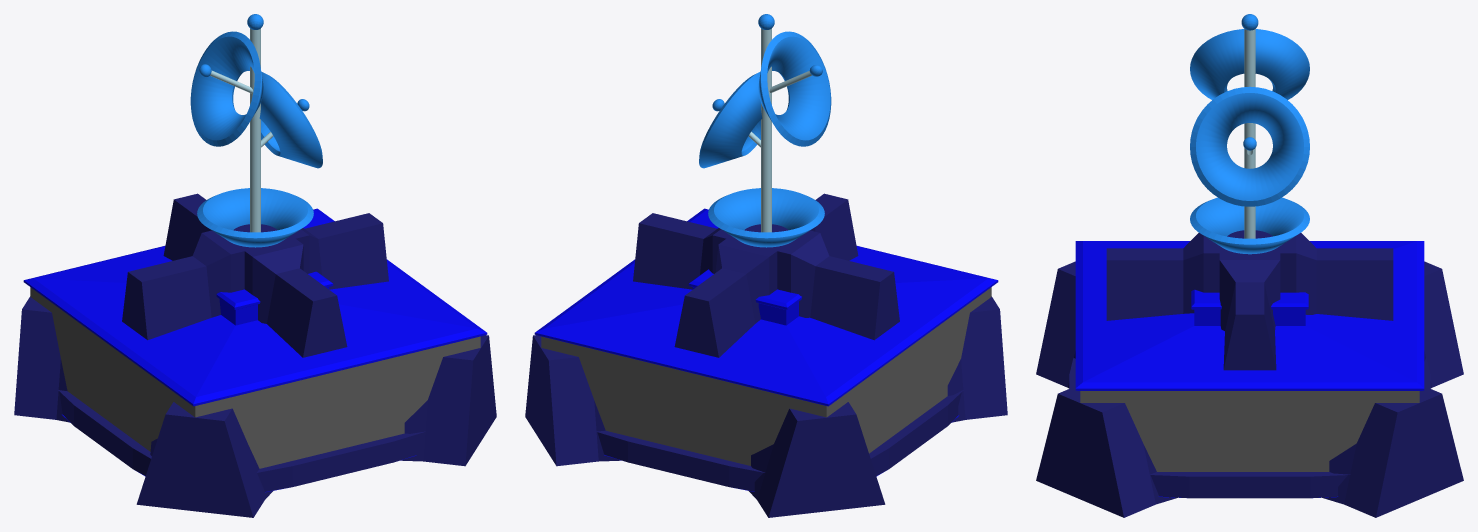
The model's file is Signal_Tower.obj.
The picture shows the model from 3 angles, left to right: view 1: azimuth 30°, elevation 25°; view 2: azimuth 150°, elevation 25°; view 3: azimuth 270°, elevation 25°; orthographic projection. The views are drawn at different scales.
Visible parts, largest first — view 1: Cube_Cube.001, Cube.003_Cube.007, Cube.001_Cube.002, Cube.004_Cube.005, Cube.005_Cube.004, Torus.001_Torus.005, Torus, Torus.002_Torus.006, Cylinder; view 2: Cube_Cube.001, Cube.003_Cube.007, Cube.004_Cube.005, Cube.001_Cube.002, Cube.005_Cube.004, Torus.001_Torus.005, Torus, Torus.002_Torus.006, Cylinder; view 3: Cube_Cube.001, Cube.005_Cube.004, Cube.004_Cube.005, Cube.001_Cube.002, Torus.002_Torus.006, Cube.003_Cube.007, Torus.001_Torus.005, Torus, Cylinder.
Part boxes in pixels (<box>): Cube_Cube.001: <box>23,208,487,492</box>; Cube.003_Cube.007: <box>122,213,388,340</box>; Cube.001_Cube.002: <box>14,296,496,466</box>; Cube.004_Cube.005: <box>136,402,272,517</box>; Cube.005_Cube.004: <box>163,193,347,357</box>; Torus.001_Torus.005: <box>190,31,263,146</box>; Torus: <box>197,188,313,247</box>; Torus.002_Torus.006: <box>259,71,322,168</box>; Cylinder: <box>250,28,260,232</box>; Cube_Cube.001: <box>534,208,998,491</box>; Cube.003_Cube.007: <box>633,213,899,340</box>; Cube.004_Cube.005: <box>525,296,1007,466</box>; Cube.001_Cube.002: <box>749,402,885,517</box>; Cube.005_Cube.004: <box>674,193,858,357</box>; Torus.001_Torus.005: <box>758,31,831,146</box>; Torus: <box>708,188,824,247</box>; Torus.002_Torus.006: <box>699,71,762,168</box>; Cylinder: <box>761,28,771,232</box>; Cube_Cube.001: <box>1069,241,1430,498</box>; Cube.005_Cube.004: <box>1106,230,1393,320</box>; Cube.004_Cube.005: <box>1036,261,1463,517</box>; Cube.001_Cube.002: <box>1036,261,1463,517</box>; Torus.002_Torus.006: <box>1190,86,1309,206</box>; Cube.003_Cube.007: <box>1219,235,1280,370</box>; Torus.001_Torus.005: <box>1190,29,1309,99</box>; Torus: <box>1190,197,1309,254</box>; Cylinder: <box>1244,29,1255,238</box>.
Bounding box in the file's own units: 3.79 × 4.06 × 3.79.
